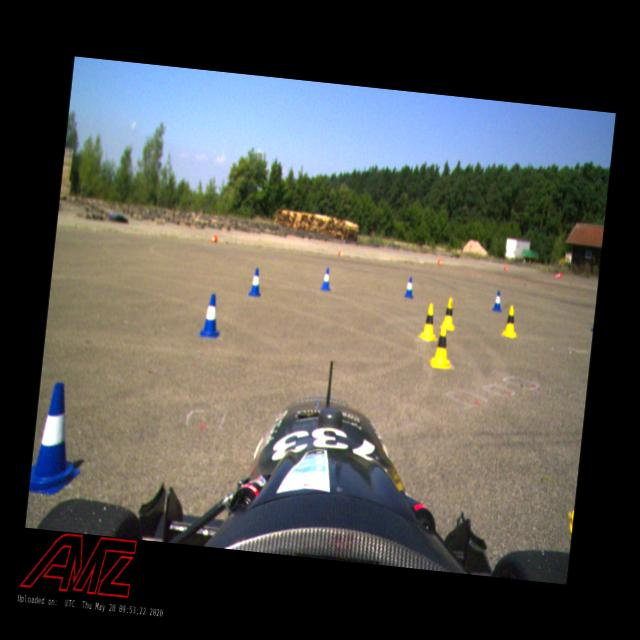blue_cone: (29, 378, 90, 498), (198, 292, 224, 338), (246, 267, 262, 297), (320, 267, 332, 291), (492, 288, 504, 310), (403, 276, 415, 298)
orange_cone: (554, 271, 562, 278), (210, 235, 217, 242), (338, 250, 343, 257), (503, 264, 508, 270), (438, 258, 442, 264)
yellow_cone: (428, 321, 455, 369), (417, 302, 440, 342), (438, 296, 458, 331), (501, 304, 520, 338)
